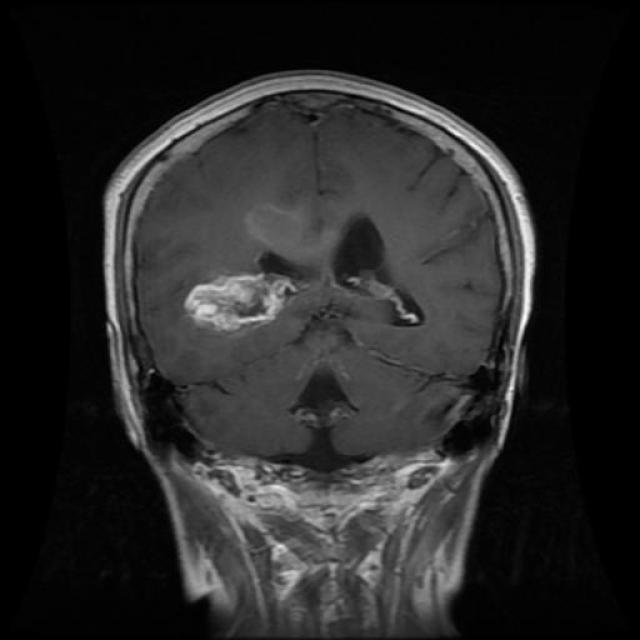glioma: (182, 208, 428, 340)
